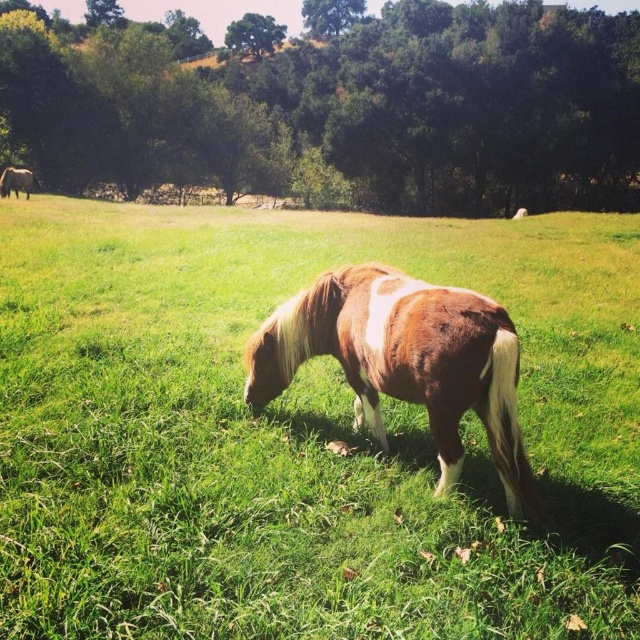Horse: (249, 261, 529, 514)
